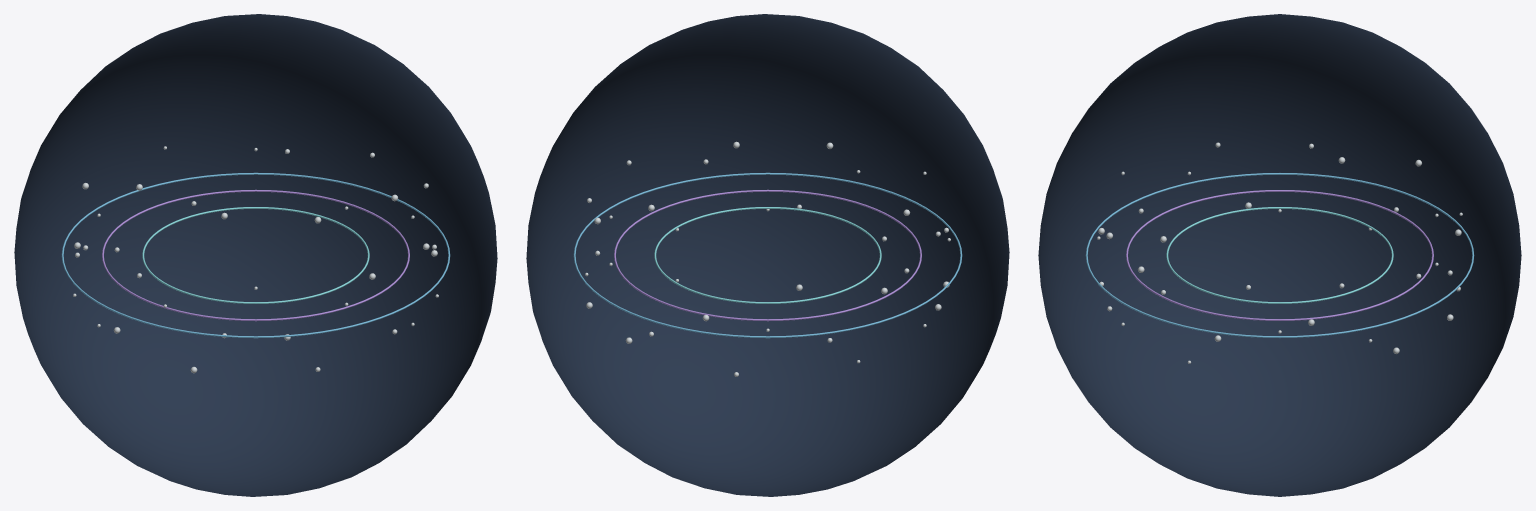
File: life-map-sky-dome-v1.gltf
The picture shows the model from 3 angles, left to right: view 1: azimuth 30°, elevation 25°; view 2: azimuth 150°, elevation 25°; view 3: azimuth 270°, elevation 25°; orthographic projection.
Visible parts, largest first — view 1: life-map-sky-dome-v1-00, life-map-sky-dome-v1-01, life-map-sky-dome-v1-02, life-map-sky-dome-v1-03; view 2: life-map-sky-dome-v1-00, life-map-sky-dome-v1-01, life-map-sky-dome-v1-02, life-map-sky-dome-v1-03; view 3: life-map-sky-dome-v1-00, life-map-sky-dome-v1-01, life-map-sky-dome-v1-02, life-map-sky-dome-v1-03.
Part boxes in pixels (x1,y1,x2,y2): life-map-sky-dome-v1-00: (14, 14, 497, 496); life-map-sky-dome-v1-01: (61, 172, 450, 338); life-map-sky-dome-v1-02: (102, 189, 409, 321); life-map-sky-dome-v1-03: (142, 207, 369, 303); life-map-sky-dome-v1-00: (526, 14, 1009, 496); life-map-sky-dome-v1-01: (573, 172, 962, 338); life-map-sky-dome-v1-02: (614, 189, 921, 321); life-map-sky-dome-v1-03: (654, 207, 881, 303); life-map-sky-dome-v1-00: (1038, 14, 1521, 496); life-map-sky-dome-v1-01: (1085, 173, 1474, 337); life-map-sky-dome-v1-02: (1126, 190, 1433, 320); life-map-sky-dome-v1-03: (1166, 207, 1393, 303).
Size of the model in its own units: 12 by 12 by 12.
